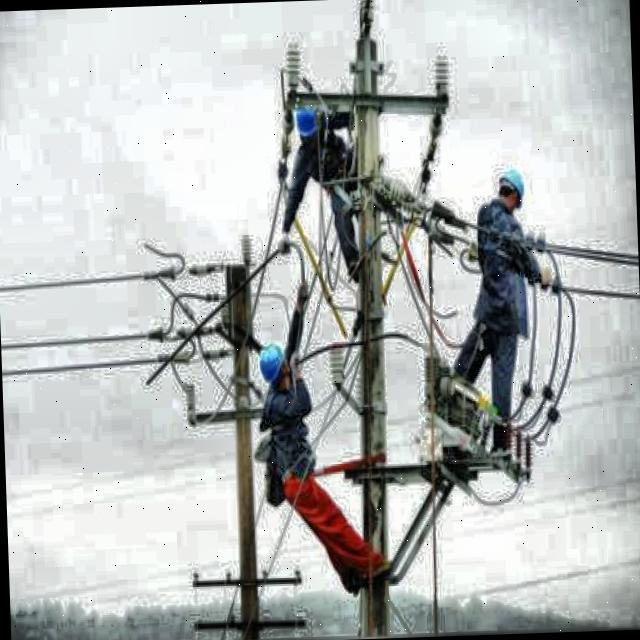helmet: (284, 92, 332, 150), (494, 165, 533, 218), (256, 338, 294, 392)
